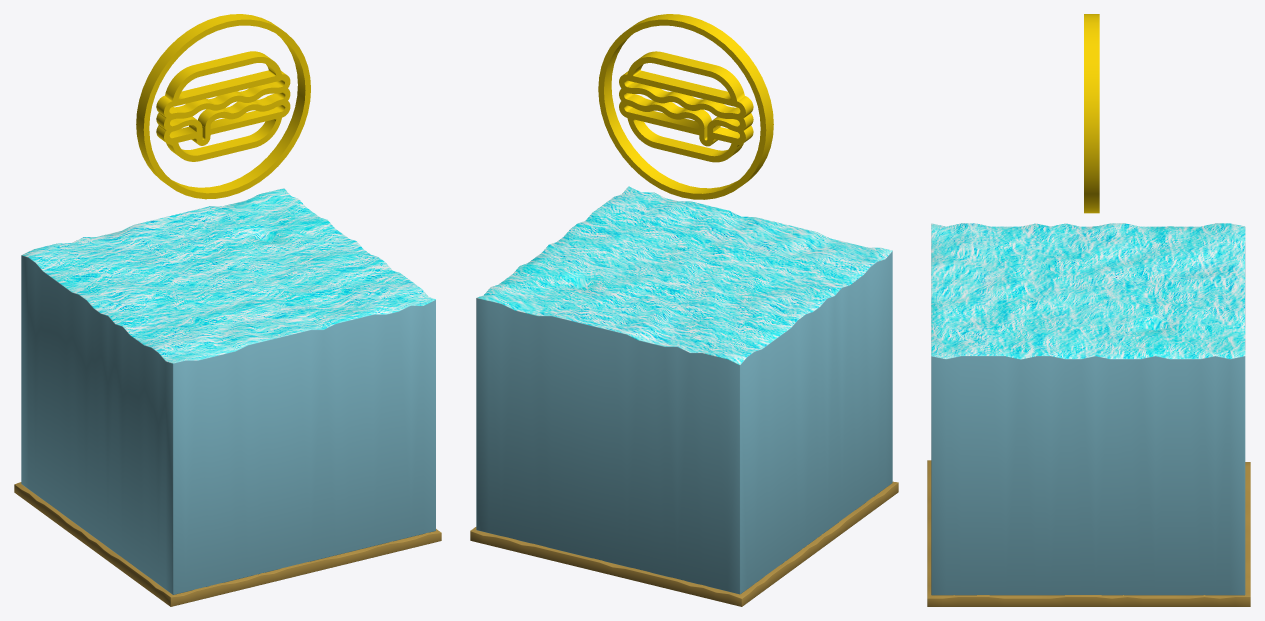
The model's file is water-lower-burger.glb.
3 renders of one model, left to right at view 1: azimuth 30°, elevation 25°; view 2: azimuth 150°, elevation 25°; view 3: azimuth 270°, elevation 25°, orthographic. The views are drawn at different scales.
Visible parts, largest first — view 1: Sea, Curve.014, Sand; view 2: Sea, Curve.014, Sand; view 3: Sea, Sand, Curve.014.
Part boxes in pixels (x1,y1,x2,y2): Sea: (21,188,435,594); Curve.014: (136,14,310,199); Sand: (14,482,441,606); Sea: (476,186,892,594); Curve.014: (598,14,773,199); Sand: (470,481,898,606); Sea: (931,223,1245,595); Sand: (927,460,1250,606); Curve.014: (1084,14,1099,213).
Bounding box in the file's own units: 107 × 188 × 107.
Materials: 4 (1 with a texture image).
